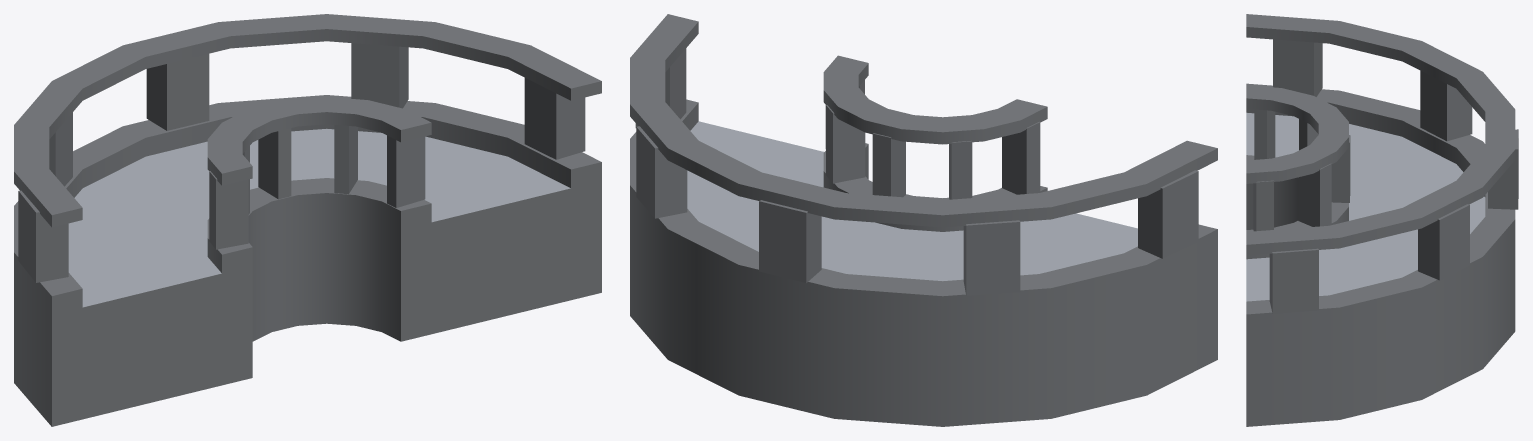
The model's file is BridgeTile_1.fbx.
The picture shows the model from 3 angles, left to right: view 1: azimuth 30°, elevation 25°; view 2: azimuth 150°, elevation 25°; view 3: azimuth 270°, elevation 25°; orthographic projection. The views are drawn at different scales.
Parts seen in each view (by area): view 1: BridgeTile_1; view 2: BridgeTile_1; view 3: BridgeTile_1.
Boxes of the visible parts, <box> form: BridgeTile_1: <box>14,14,601,426</box>; BridgeTile_1: <box>630,14,1217,426</box>; BridgeTile_1: <box>1246,14,1518,426</box>.
Bounding box in the file's own units: 299 × 110 × 149.
